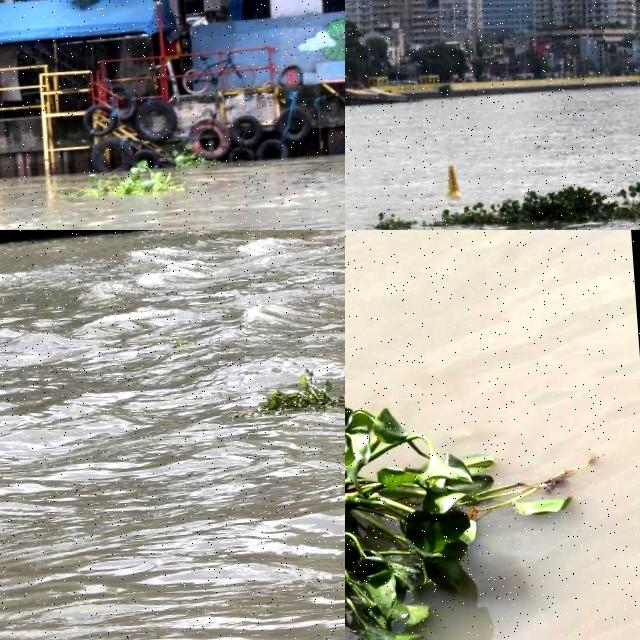water-hyacinth: (346, 367, 620, 640), (366, 169, 640, 231), (236, 364, 346, 425), (70, 162, 185, 201)
